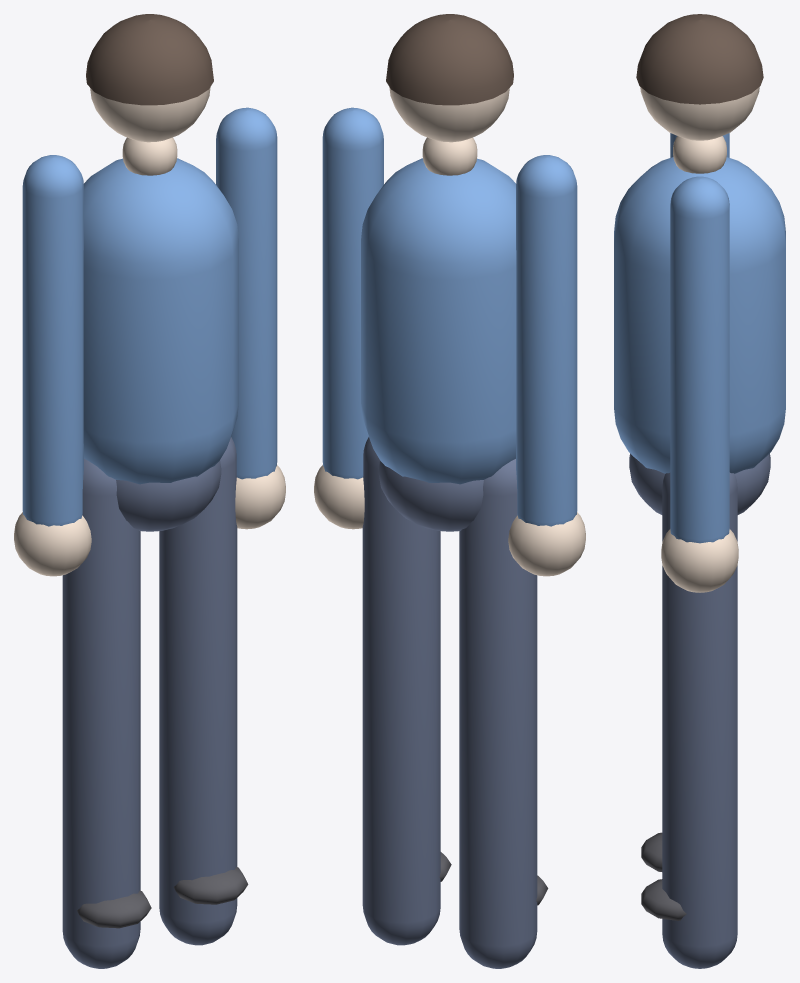
File: male_casual_25.glb
3 renders of one model, left to right at view 1: azimuth 30°, elevation 25°; view 2: azimuth 150°, elevation 25°; view 3: azimuth 270°, elevation 25°, orthographic.
Parts seen in each view (by area): view 1: torso, leg_l, leg_r, arm_l, arm_r, hair, hips, hand_l, head, hand_r, shoe_l, shoe_r (+1 smaller); view 2: torso, leg_l, leg_r, arm_l, arm_r, hair, hips, hand_l, head, hand_r, neck; view 3: torso, leg_r, arm_r, hair, hand_r, head, hips, neck, shoe_r, shoe_l.
Part boxes in pixels (x1,y1,x2,y2): torso: (83, 158, 238, 484); leg_l: (62, 459, 140, 968); leg_r: (159, 437, 237, 945); arm_l: (22, 155, 83, 526); arm_r: (216, 107, 277, 479); hair: (86, 14, 213, 105); hips: (116, 460, 221, 531); hand_l: (14, 512, 91, 576); head: (90, 87, 210, 142); hand_r: (235, 465, 285, 529); shoe_l: (77, 890, 151, 928); shoe_r: (174, 867, 248, 904); torso: (361, 158, 516, 484); leg_l: (459, 459, 537, 968); leg_r: (362, 437, 440, 945); arm_l: (516, 155, 577, 526); arm_r: (322, 107, 383, 479); hair: (386, 14, 513, 105); hips: (378, 460, 483, 531); hand_l: (508, 512, 585, 576); head: (389, 87, 509, 142); hand_r: (314, 465, 364, 529); neck: (422, 137, 477, 175); torso: (614, 157, 785, 473); leg_r: (662, 472, 737, 968); arm_r: (670, 176, 729, 543); hair: (636, 14, 763, 104); hand_r: (661, 529, 738, 592); head: (640, 87, 759, 140); hips: (629, 453, 770, 514); neck: (673, 136, 726, 173); shoe_r: (641, 879, 686, 920); shoe_l: (641, 832, 662, 871).
Size of the model in its own units: 0.543 by 1.85 by 0.312.
